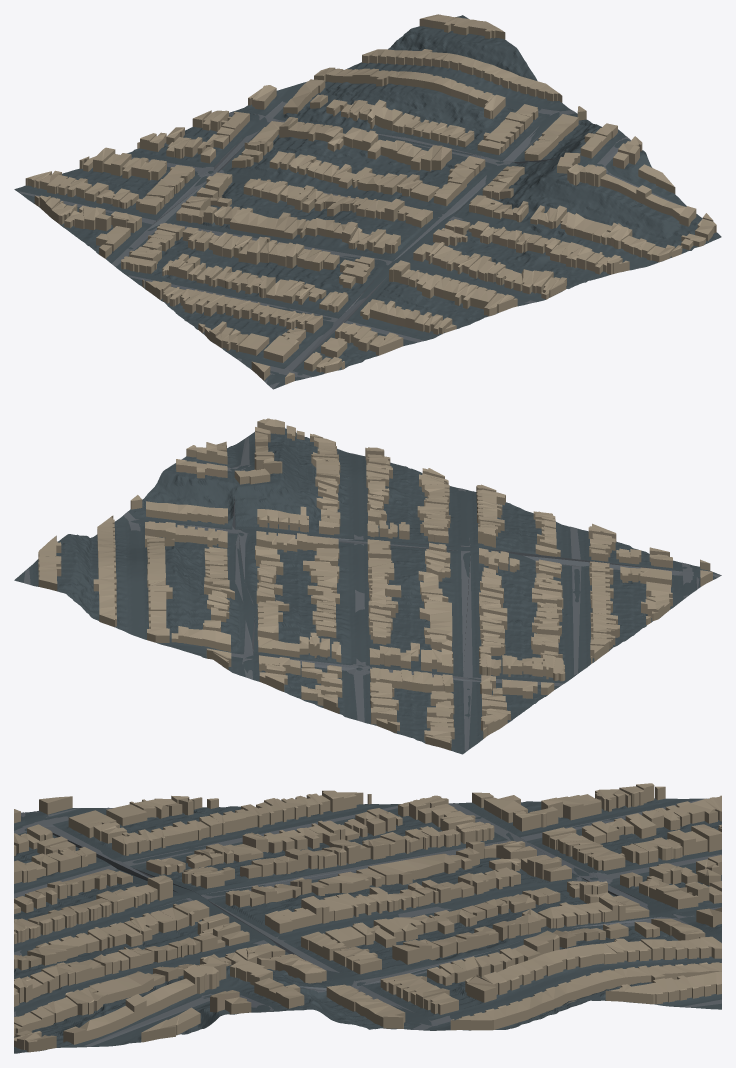
File: epsg26910-1433-10873.lod0.glb
The picture shows the model from 3 angles, top to bottom: view 1: azimuth 30°, elevation 25°; view 2: azimuth 150°, elevation 25°; view 3: azimuth 270°, elevation 25°; orthographic projection. The views are drawn at different scales.
Visible parts, largest first — view 1: epsg26910-1433-10873-lod0; view 2: epsg26910-1433-10873-lod0; view 3: epsg26910-1433-10873-lod0.
Part boxes in pixels (box(x1,y1,x2,y2)): epsg26910-1433-10873-lod0: box(14, 14, 721, 389); epsg26910-1433-10873-lod0: box(14, 418, 721, 754); epsg26910-1433-10873-lod0: box(14, 783, 721, 1053).
Size of the model in its own units: 384 by 72.96 by 384.
